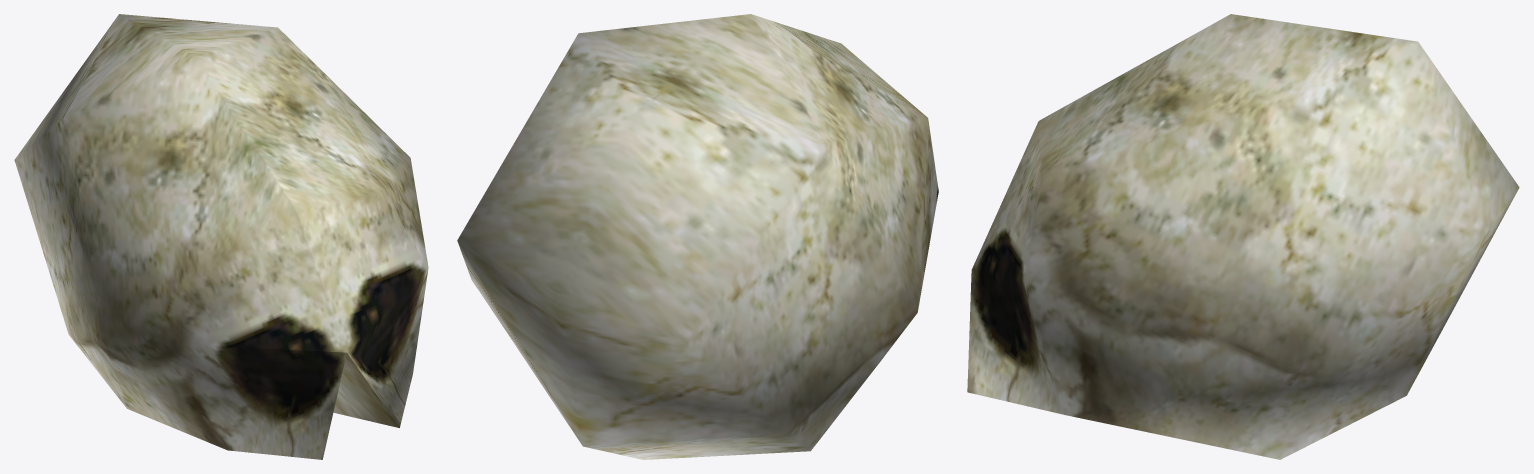
Rendered from poi_all_skeleton_bith_head_l3.fbx.
3 views of the same model, side by side, from view 1: azimuth 30°, elevation 25°; view 2: azimuth 150°, elevation 25°; view 3: azimuth 270°, elevation 25° (orthographic). The views are drawn at different scales.
Parts seen in each view (by area): view 1: mesh_node; view 2: mesh_node; view 3: mesh_node.
Part boxes in pixels (x1,y1,x2,y2): mesh_node: (14,14,428,459); mesh_node: (457,14,938,459); mesh_node: (967,14,1519,459).
Size of the model in its own units: 0.1773 by 0.2067 by 0.2524.
1 material, 1 textured.
